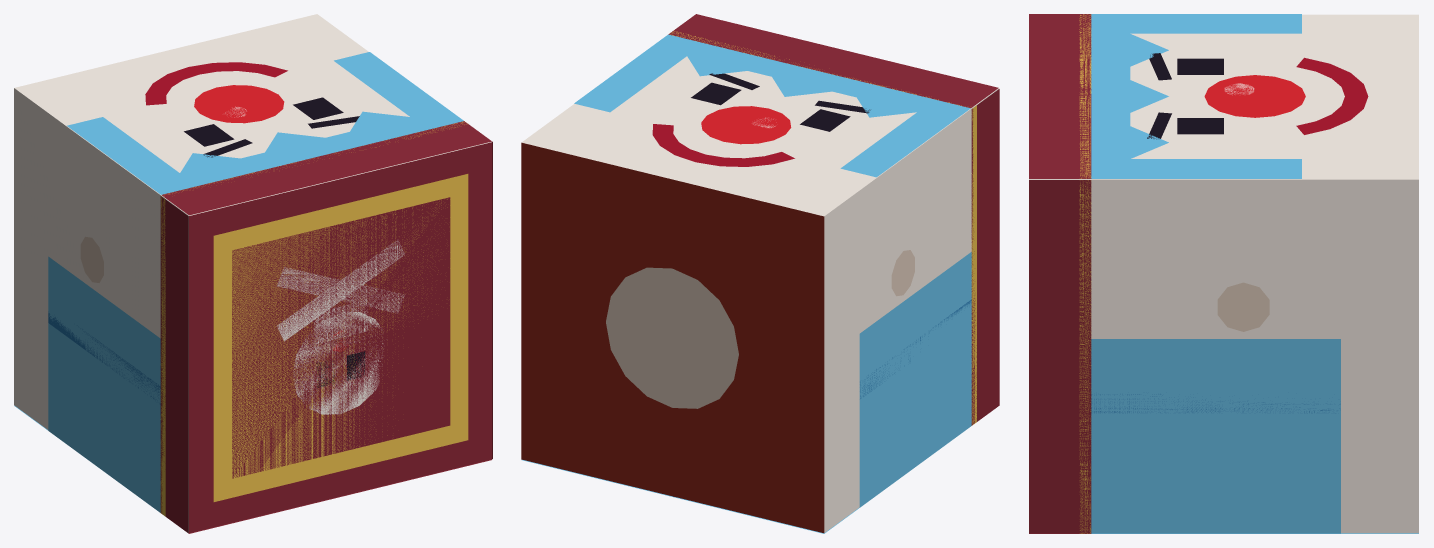
Rendered from buggy_head.obj.
3 renders of one model, left to right at view 1: azimuth 30°, elevation 25°; view 2: azimuth 150°, elevation 25°; view 3: azimuth 270°, elevation 25°, orthographic. The views are drawn at different scales.
Visible parts, largest first — view 1: buggy_head_decal, buggy_head; view 2: buggy_head, buggy_head_decal; view 3: buggy_head_decal, buggy_head.
Boxes of the visible parts, box(x1,y1,x2,y2) form: buggy_head_decal: box(14, 52, 492, 533); buggy_head: box(14, 14, 492, 533); buggy_head: box(521, 56, 998, 533); buggy_head_decal: box(522, 14, 999, 533); buggy_head_decal: box(1029, 14, 1418, 533); buggy_head: box(1029, 14, 1418, 533).
Size of the model in its own units: 1 by 1 by 1.
